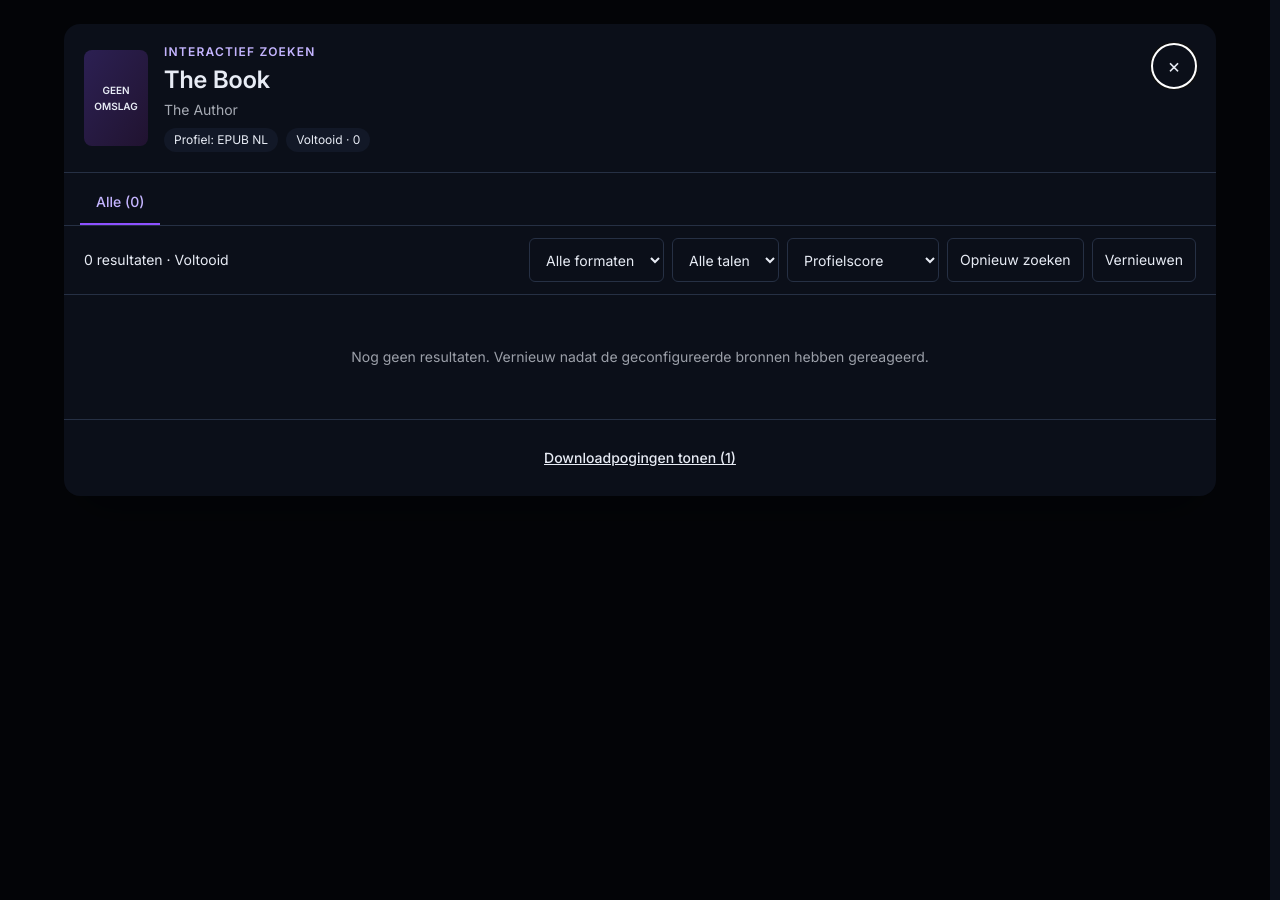
Scenario: InteractiveSearchModal › uses the localized unknown fallback only for an unrecognized runtime attempt state
The width and height of the screenshot is (1280, 900).
Click the button "Downloadpogingen tonen (1)". click: [640, 458]
box: [544, 436, 736, 480]
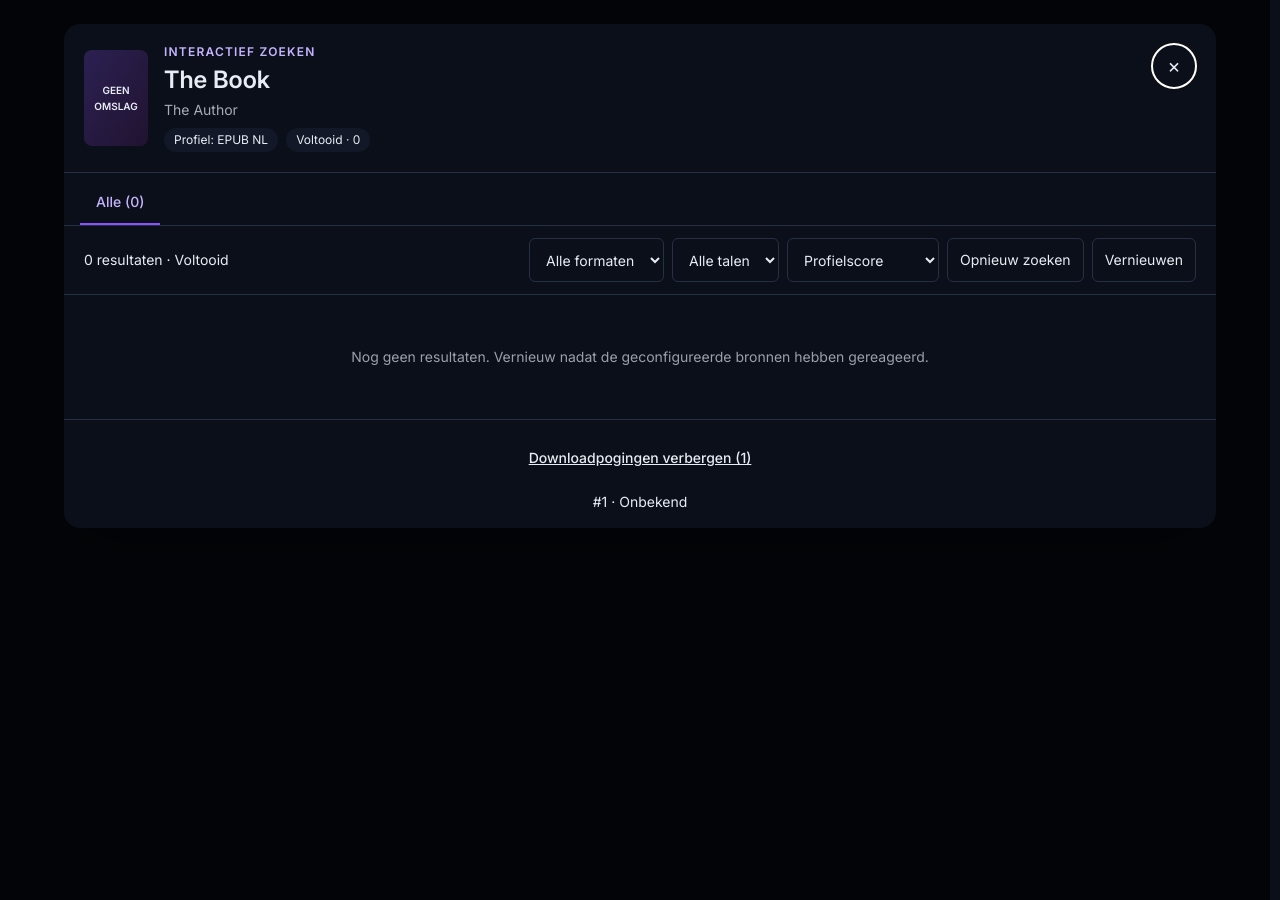
expect the text "#1 · Onbekend" is shown: met, box [593, 493, 687, 510]
